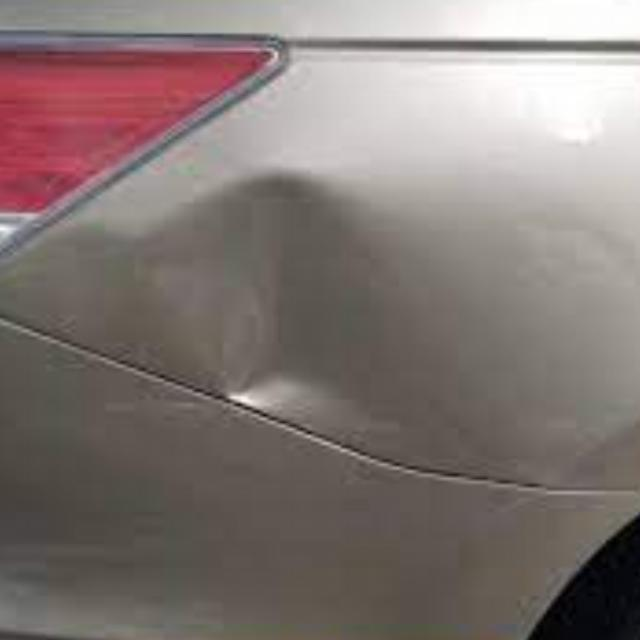dents: (131, 169, 447, 442)
